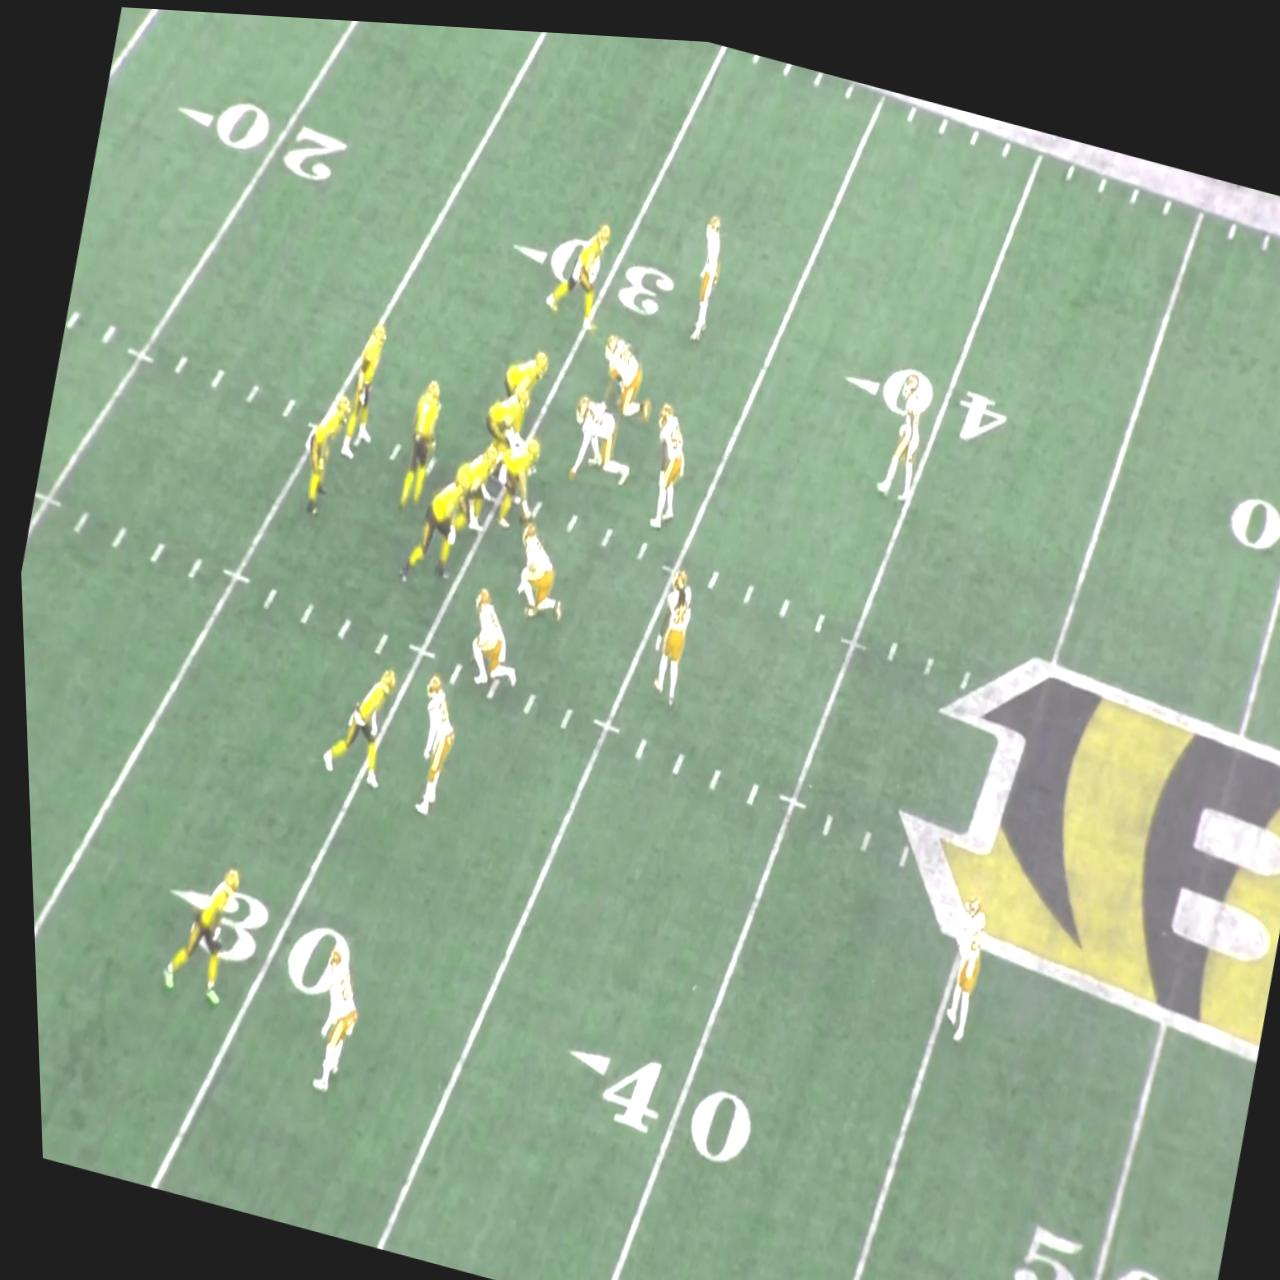20L: (168, 80, 353, 188)
30L: (148, 870, 352, 1000), (503, 216, 679, 315)
40L: (547, 1028, 753, 1160), (835, 336, 1010, 441)
50: (996, 1205, 1176, 1280), (1217, 474, 1280, 564)
